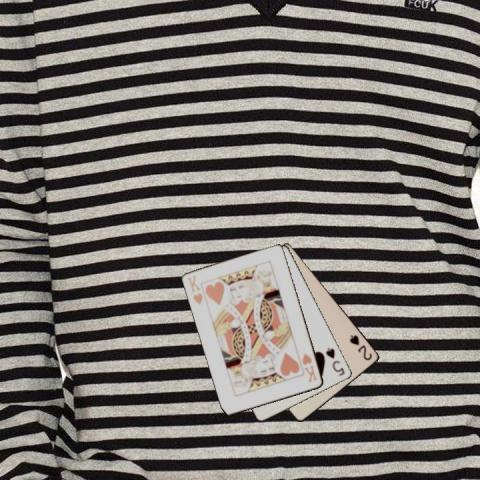2s: (347, 332, 373, 362)
5s: (323, 345, 346, 377)
Kh: (299, 350, 319, 383), (185, 273, 204, 306)
